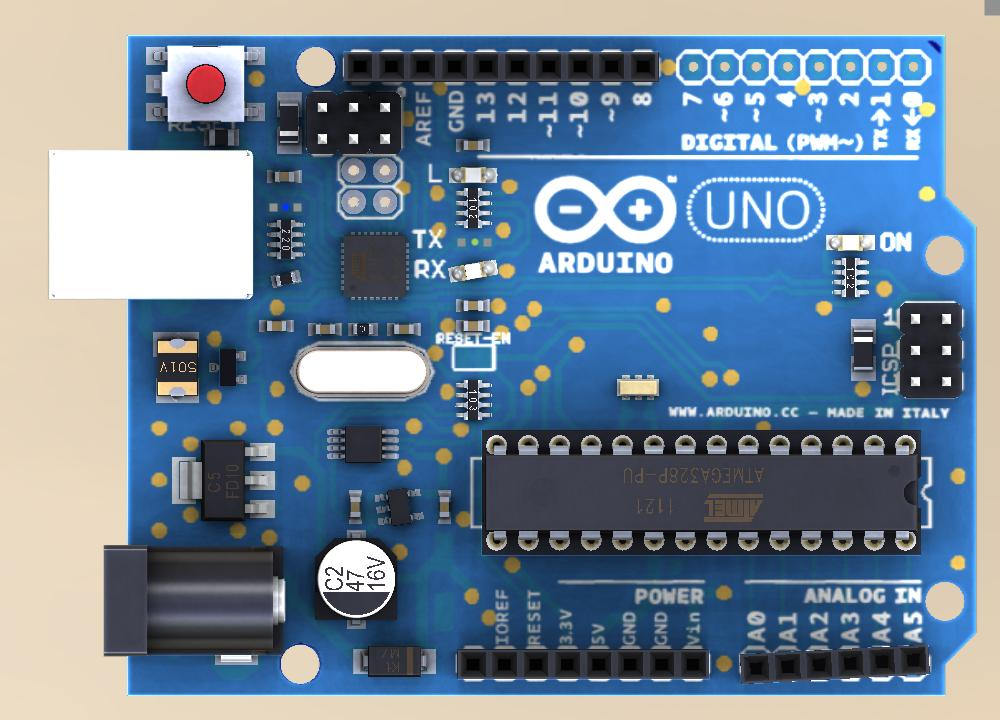16MHz Crystal: (614, 373, 660, 403)
47uF CAP: (309, 529, 401, 628)
ATMEL328P: (482, 431, 920, 555)
ATMega16u2: (339, 228, 413, 304)
CD1206: (274, 91, 301, 157), (850, 320, 876, 383)
Capa: (306, 319, 344, 338), (265, 167, 304, 185), (346, 489, 364, 526), (386, 321, 423, 338), (435, 489, 452, 526), (256, 319, 296, 334), (454, 138, 493, 153), (455, 298, 491, 314), (454, 318, 492, 333)
Crystal: (290, 342, 434, 403)
Fuse: (151, 332, 201, 406)
LED: (447, 260, 499, 283), (823, 233, 876, 253), (448, 167, 499, 184)
LMV358: (372, 487, 426, 530)
M7 diode: (351, 643, 438, 679)
PIN Header: (898, 301, 964, 400), (304, 90, 404, 155)
Ports: (342, 47, 662, 87), (453, 643, 712, 685), (736, 643, 932, 685)
Power: (102, 544, 284, 666)
Regulator: (140, 415, 288, 544)
Reset: (142, 44, 266, 128)
Resistor: (346, 319, 380, 340), (202, 129, 239, 148), (270, 269, 302, 289)
Resistor pack: (454, 375, 493, 423), (265, 218, 307, 262), (830, 255, 870, 301), (455, 186, 494, 230)
SSOT3: (207, 345, 250, 390)
USB: (45, 149, 255, 302)
lp2985: (324, 425, 403, 463)
